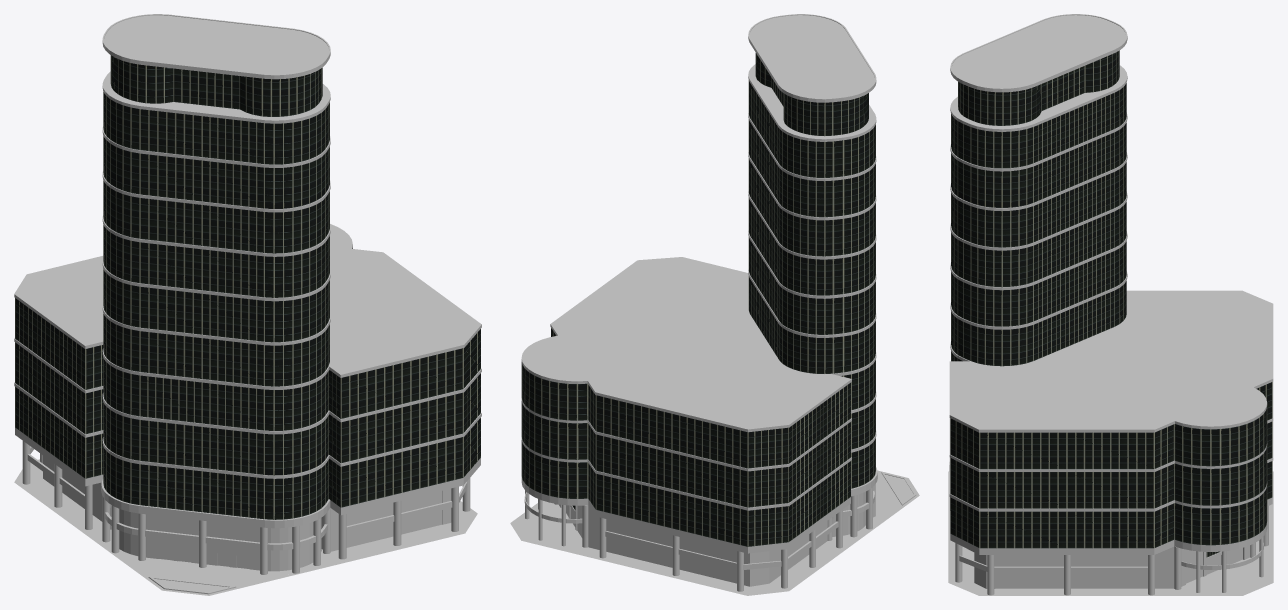
3 views of the same model, side by side, from view 1: azimuth 30°, elevation 25°; view 2: azimuth 150°, elevation 25°; view 3: azimuth 270°, elevation 25° (orthographic). The views are drawn at different scales.
Parts seen in each view (by area): view 1: QD-14; view 2: QD-14; view 3: QD-14.
Part boxes in pixels (box(x1,y1,x2,y2)): QD-14: box(14, 14, 481, 595); QD-14: box(510, 14, 919, 595); QD-14: box(948, 14, 1273, 595).
Size of what is drawn, in the model's own units: 72.87 by 109 by 72.
